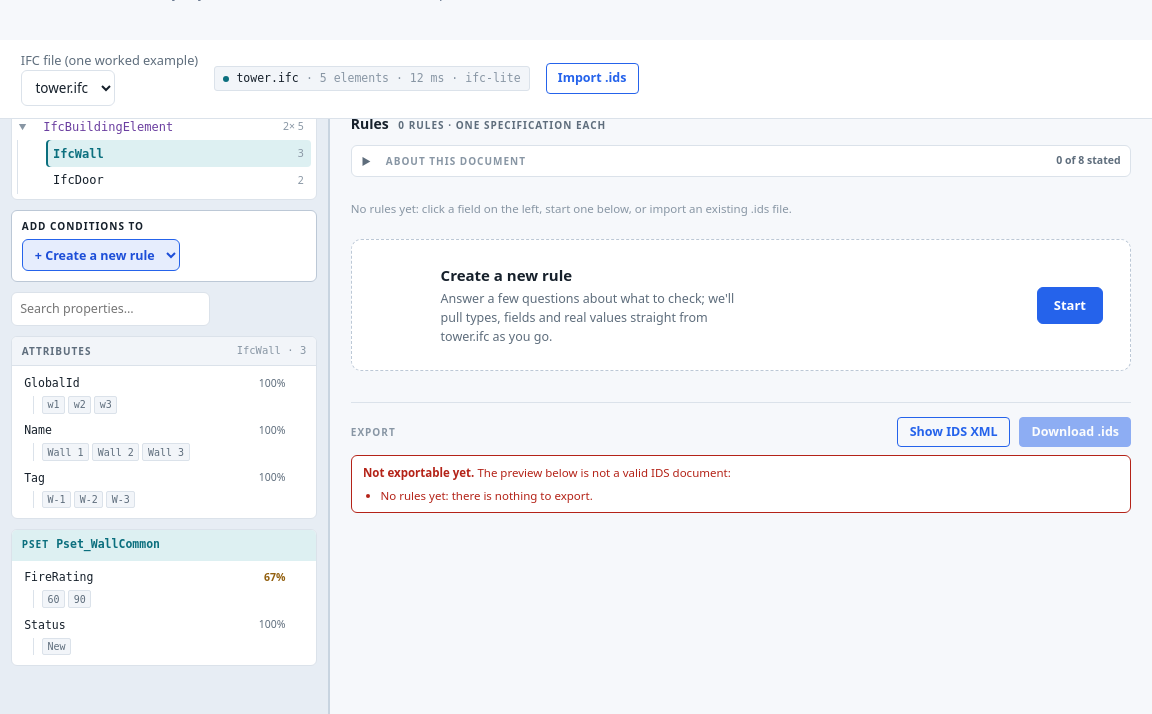
Scenario: RuleBuilderPage › adds a condition — and the selected type — to the active rule when a field is clicked
The image size is (1152, 714).
(page scrolled)
expect the list "▼ IfcBuildingElement 2× 5 IfcWall 3 IfcDoor 2" is shown: met, box [17,113,311,194]
Click the button "FireRating 67%": (59, 577) [17,565,311,590]
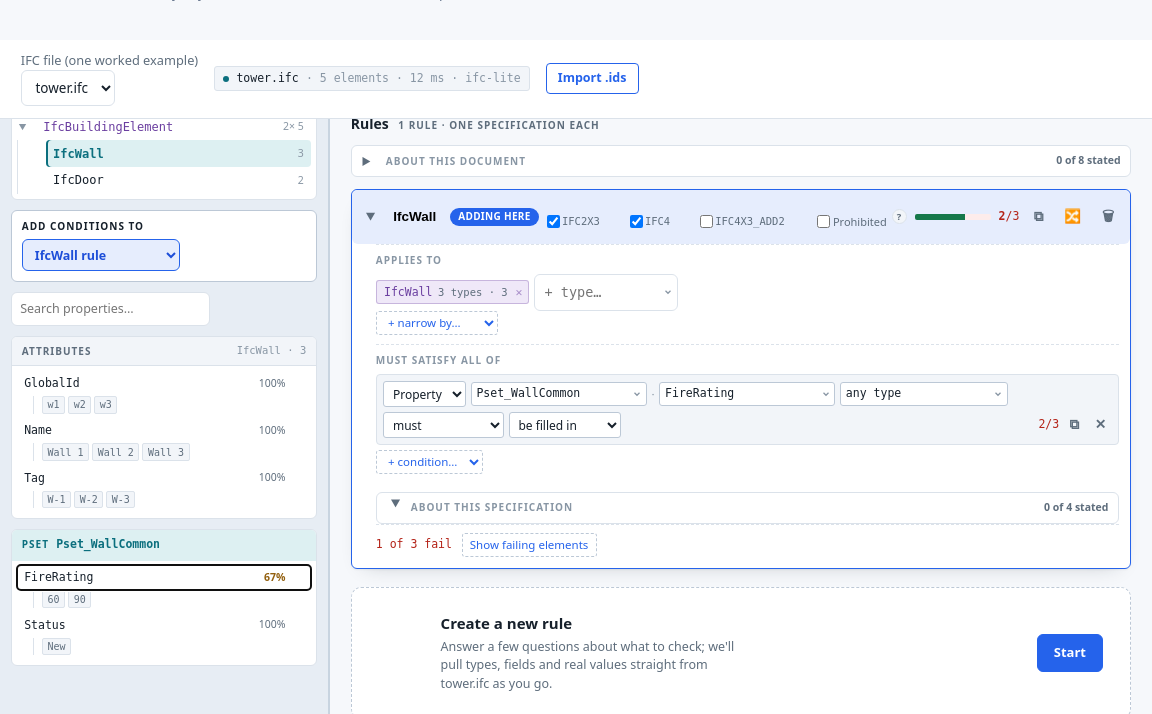
expect the dropdown named "field name" holds "FireRating": met, box [659,382,835,406]
expect the dropdown named "property set" holds "Pset_WallCommon": met, box [471,382,647,406]
expect the element with class "chip" shows "IfcWall": met, box [384,285,432,299]
